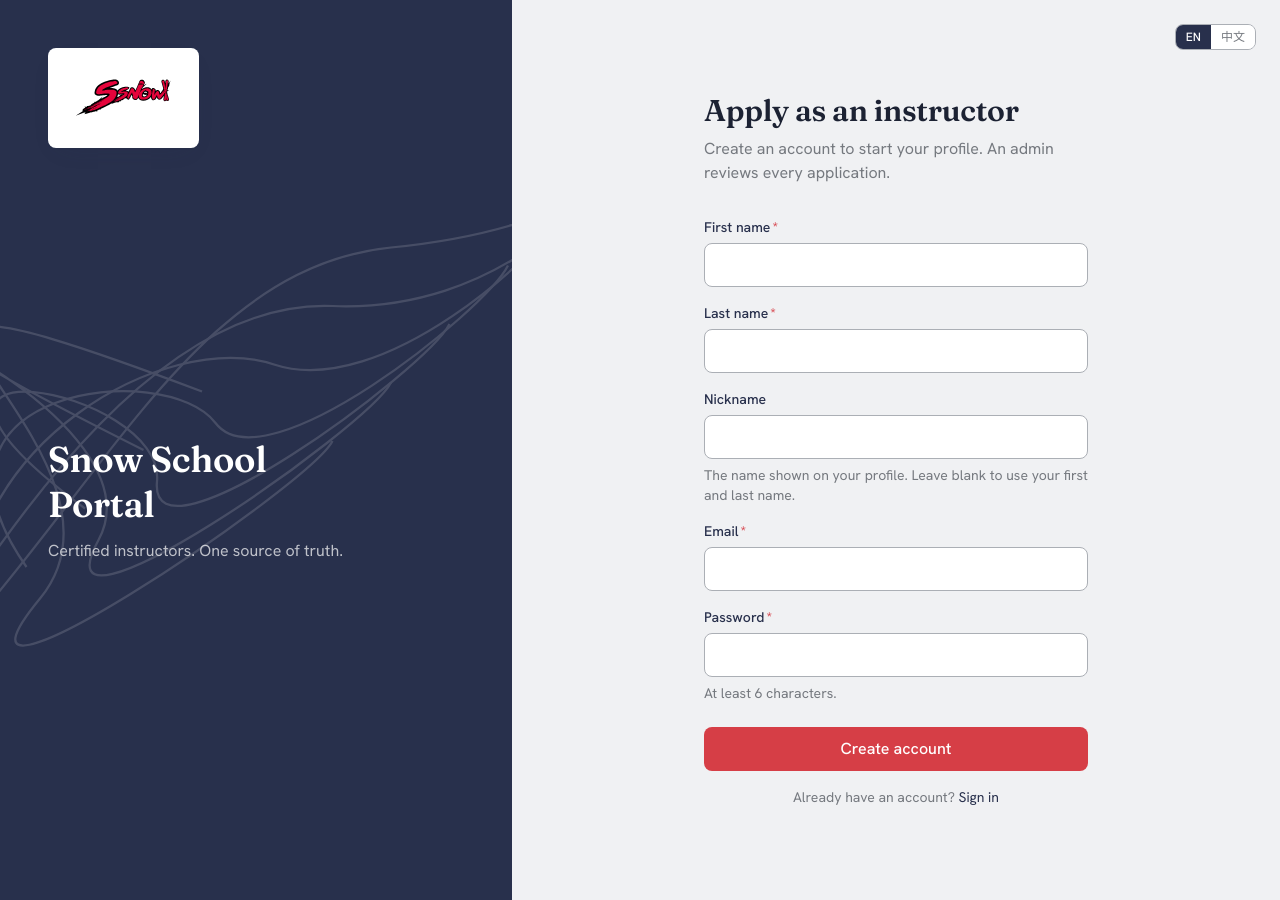
Test: SignUpPage › sends trimmed names and nickname as sign-up metadata
Type "  Jane " into the field labelled "First name*" at (896, 265), box [704,243,1088,287]
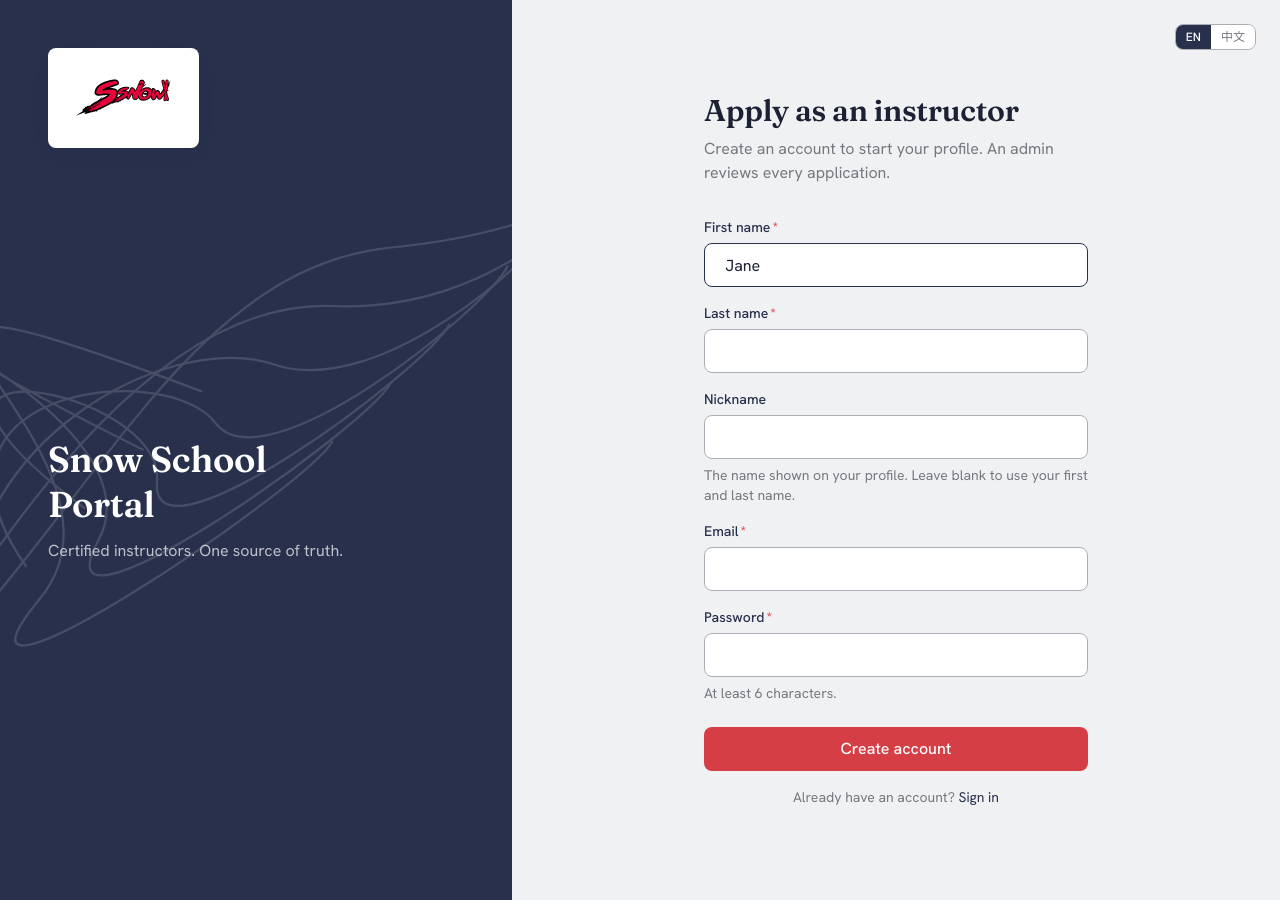
Type " Doe  " into the field labelled "Last name*" at (896, 351), box [704,329,1088,373]
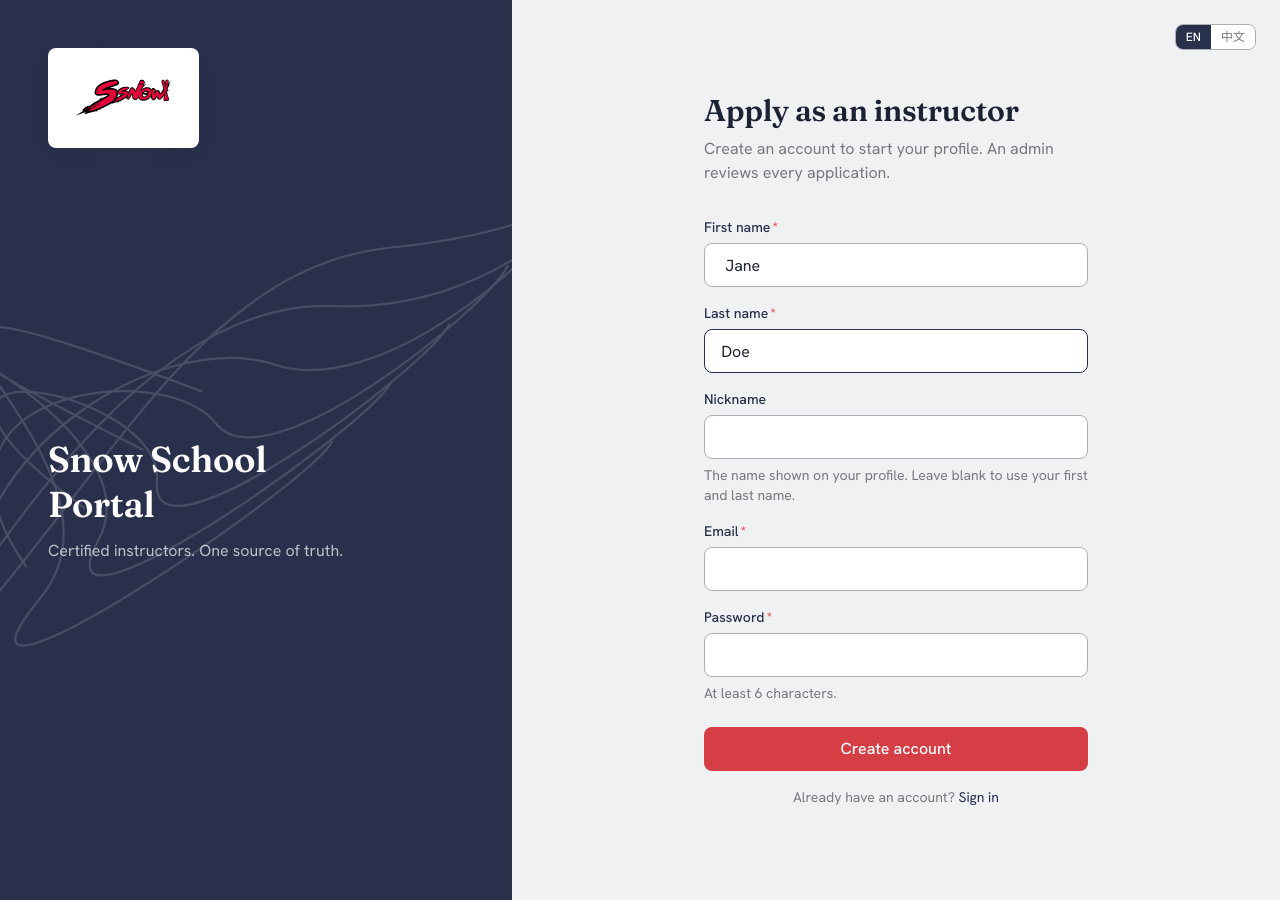
Type " JJ " into the field labelled "Nickname" at (896, 437), box [704,415,1088,459]
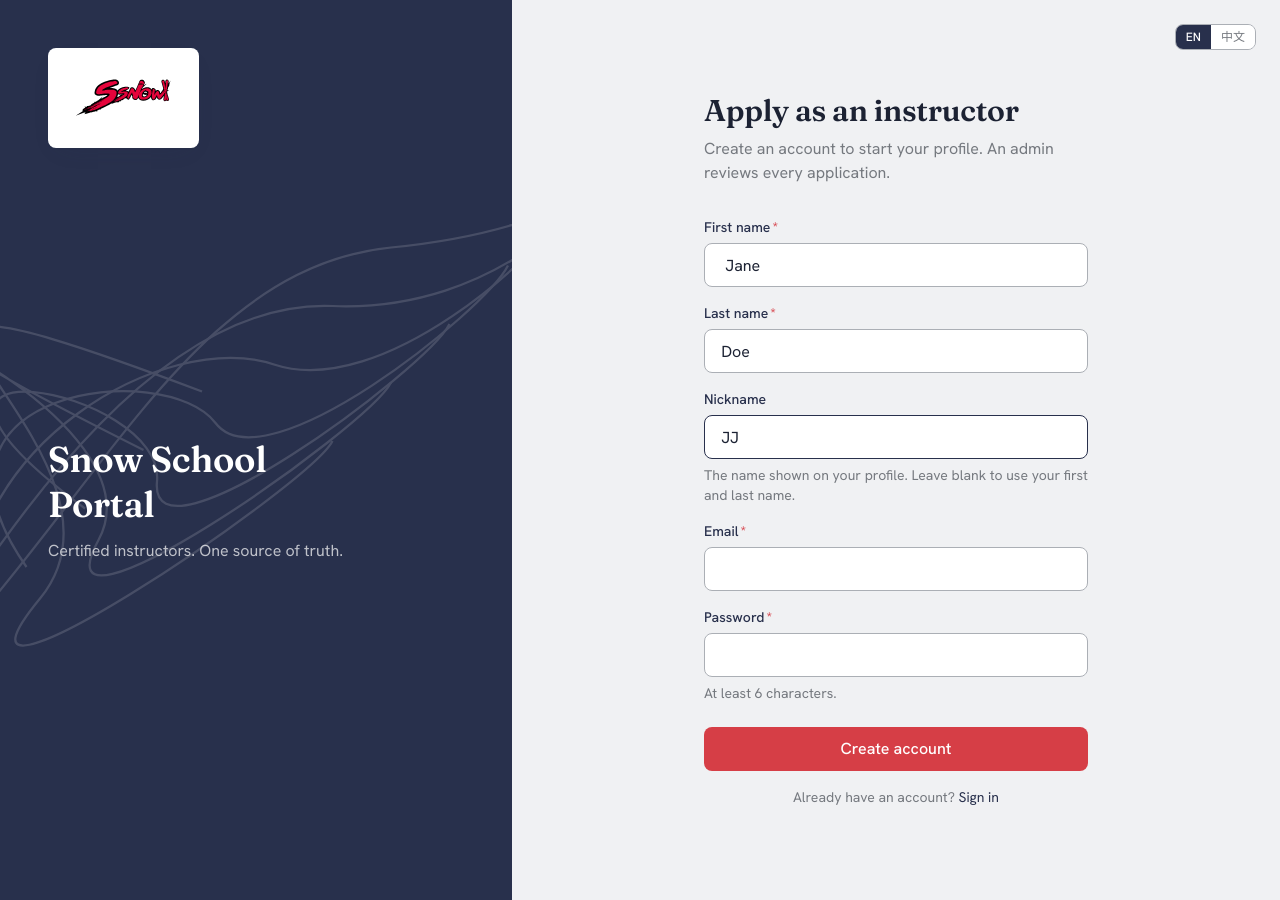
Type "jane@example.com" into the field labelled "Email*" at (896, 569), box [704,547,1088,591]
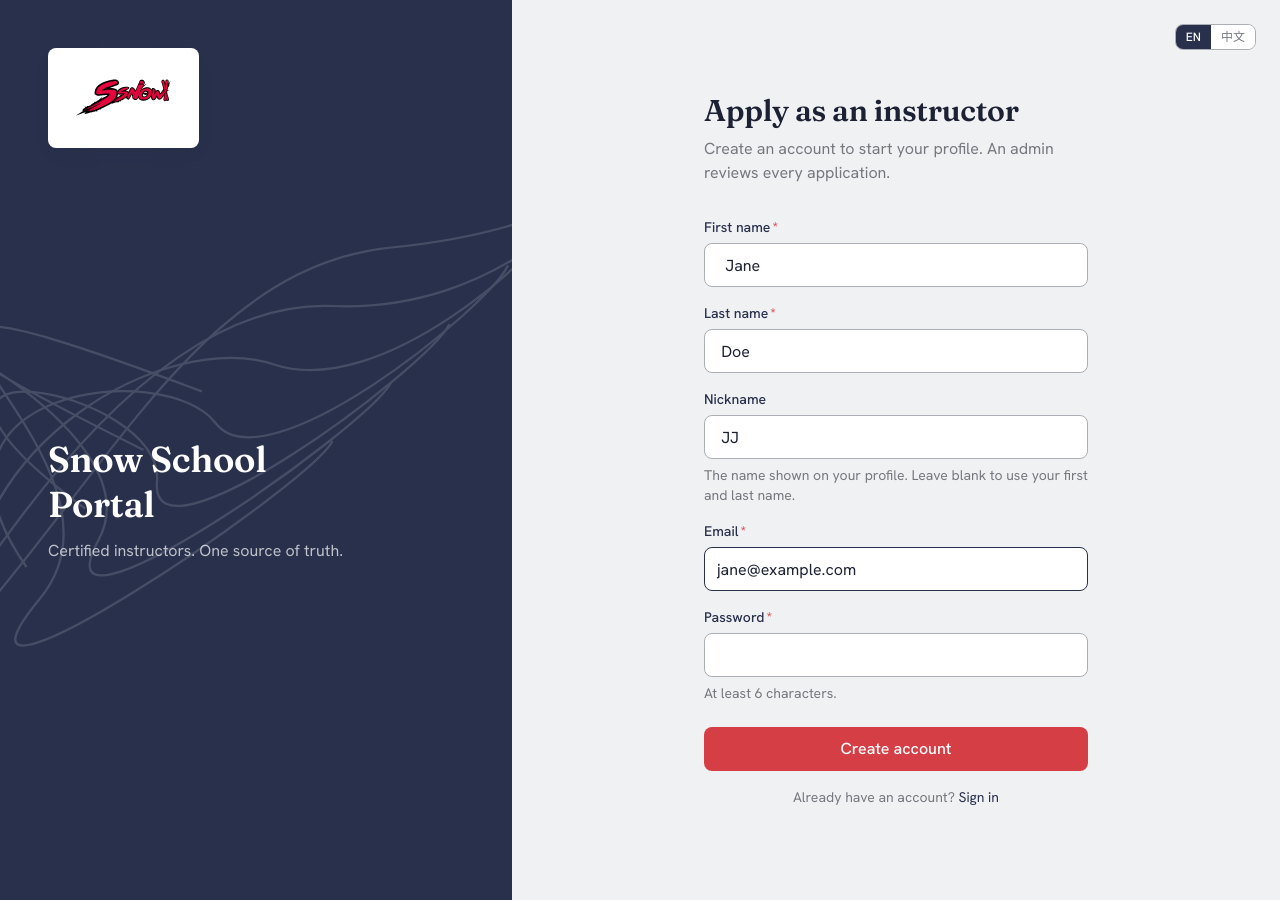
Type "secret123" into the password field labelled "Password*" at (896, 655), box [704,633,1088,677]
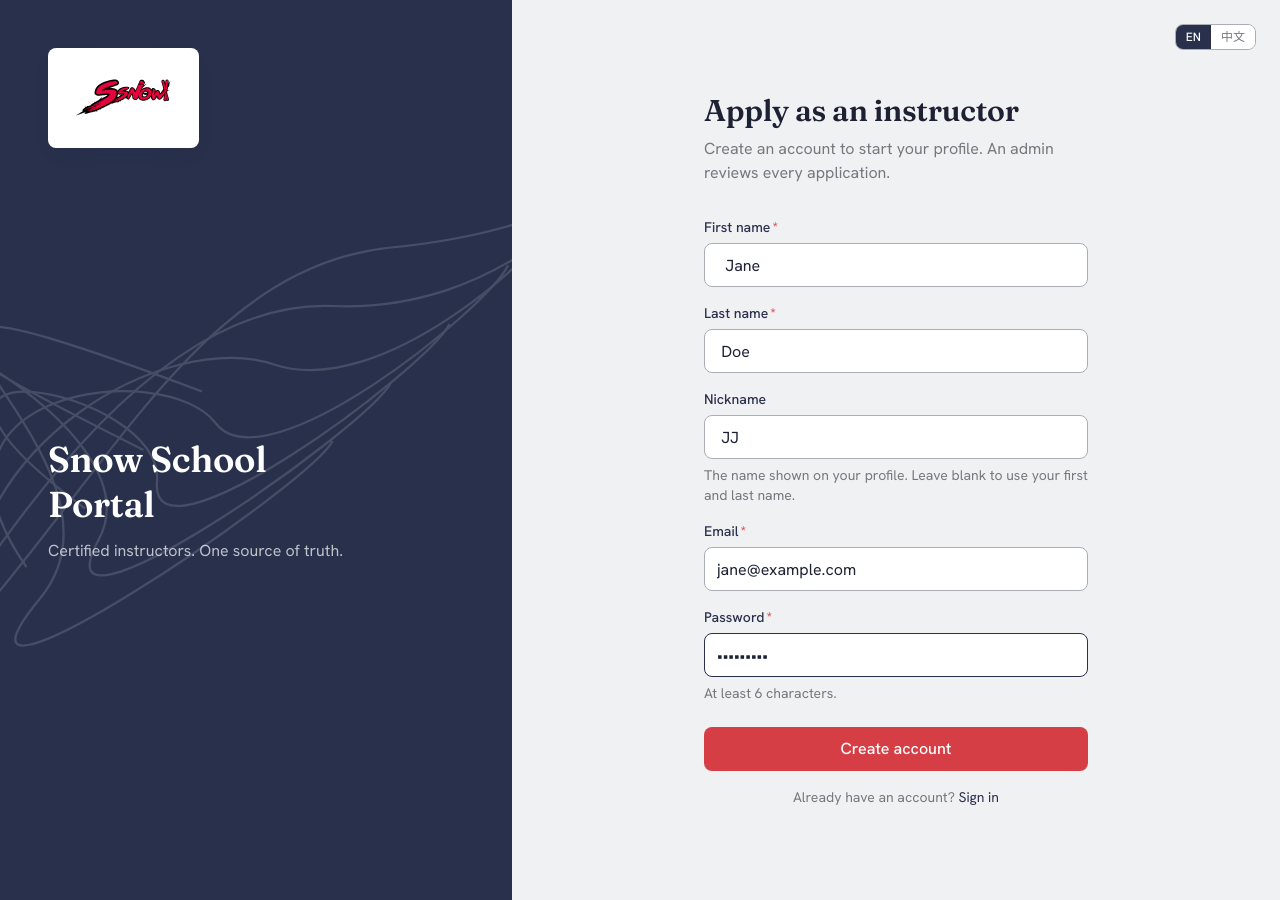
Click the button named "Create account" at (896, 749), box [704,727,1088,771]
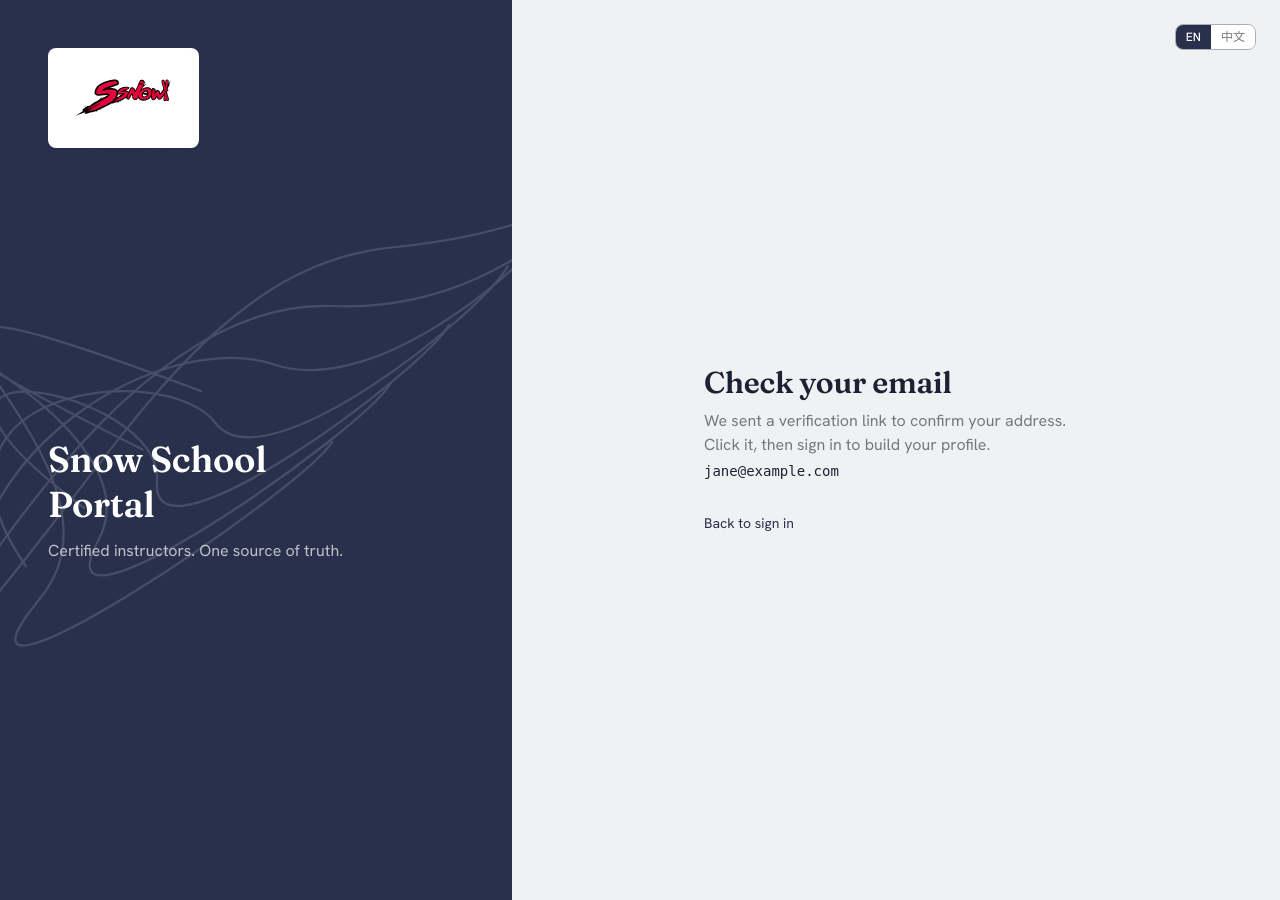
Result: the heading "Check your email" is shown at [704,364,951,401]
